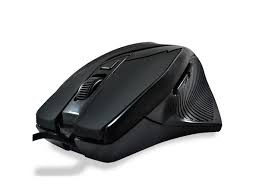mouse: (33, 30, 225, 168)
